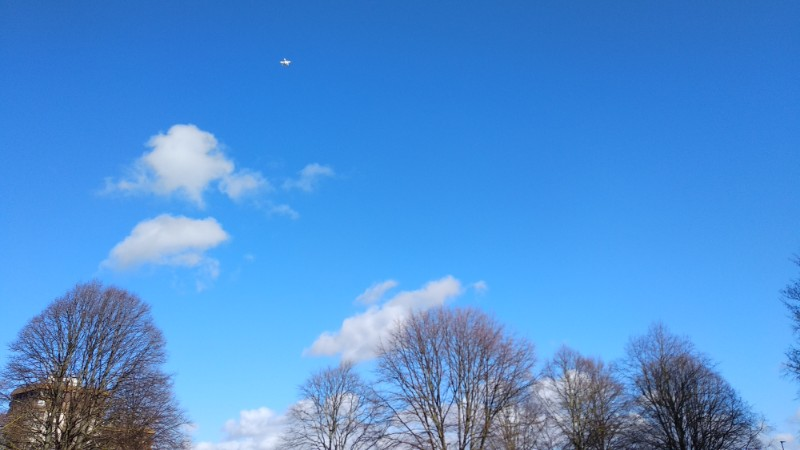drone: (279, 55, 292, 68)
